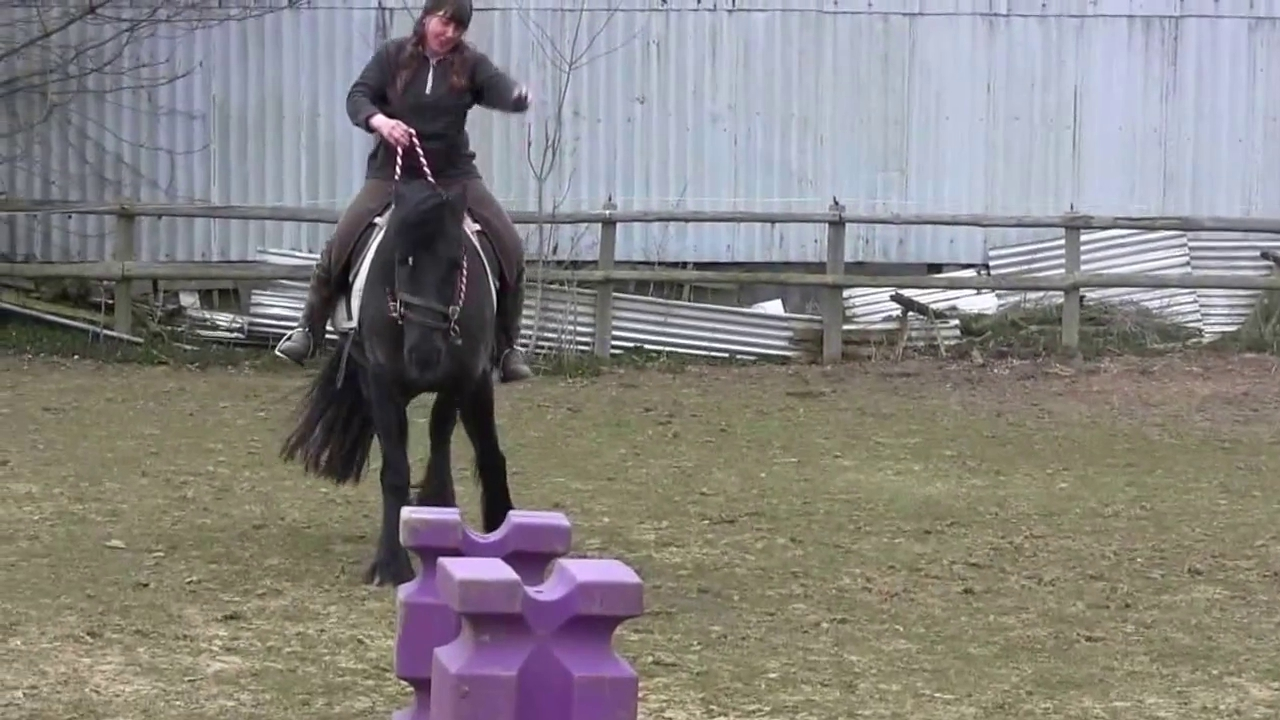person: (274, 1, 534, 384)
